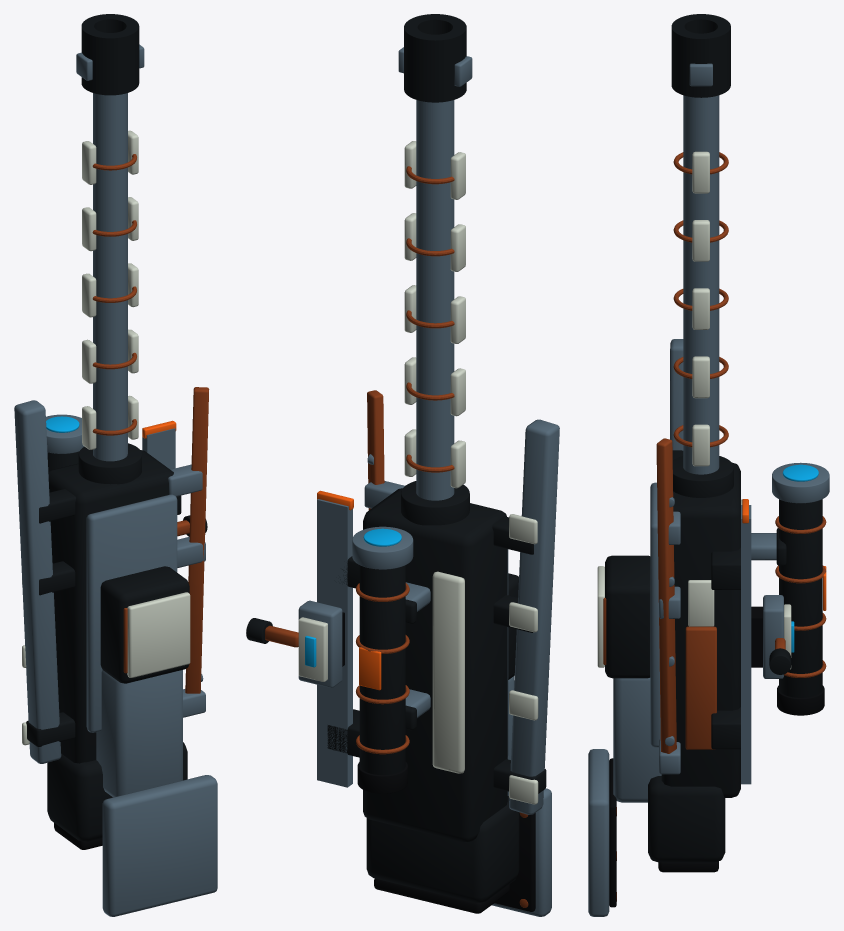
File: M01-011_long_precision_rifle.obj
The picture shows the model from 3 angles, left to right: view 1: azimuth 30°, elevation 25°; view 2: azimuth 150°, elevation 25°; view 3: azimuth 270°, elevation 25°; orthographic projection. The views are drawn at different scales.
Parts seen in each view (by area): view 1: Mount_Top_Socket, Bored_Long_Barrel, Precision_Receiver, Left_Long_Diagonal_Brace, Load_Bearing_Column, Receiver_Lower_Skid, Magazine_Ceramic_Base, Underbarrel_Magazine, Rear_Recoil_Block, Muzzle_Brake_Bored, Right_Light_Diagonal_Brace, Barrel_Breech_Collar (+15 smaller); view 2: Precision_Receiver, Bored_Long_Barrel, Left_Long_Diagonal_Brace, Rear_Recoil_Block, Precision_Optic_Tube, Bolt_Fixed_Rail, Receiver_Upper_Ceramic_Left, Muzzle_Brake_Bored, Mount_Top_Socket, Barrel_Breech_Collar, Mount_Elastomer_Gasket, Bolt_Machined_Block (+20 smaller); view 3: Precision_Receiver, Bored_Long_Barrel, Precision_Optic_Tube, Rear_Recoil_Block, Underbarrel_Magazine, Load_Bearing_Column, Right_Light_Diagonal_Brace, Muzzle_Brake_Bored, Right_Side_Copper_Band, Mount_Top_Socket, Bolt_Fixed_Rail, Receiver_Lower_Skid (+22 smaller).
Part boxes in pixels (bbox=[...]): Mount_Top_Socket: bbox=[102, 775, 217, 916]; Bored_Long_Barrel: bbox=[93, 93, 127, 461]; Precision_Receiver: bbox=[48, 450, 176, 763]; Left_Long_Diagonal_Brace: bbox=[14, 400, 61, 763]; Load_Bearing_Column: bbox=[96, 670, 182, 797]; Receiver_Lower_Skid: bbox=[86, 494, 177, 732]; Magazine_Ceramic_Base: bbox=[127, 592, 190, 677]; Underbarrel_Magazine: bbox=[100, 566, 189, 683]; Rear_Recoil_Block: bbox=[47, 742, 187, 841]; Muzzle_Brake_Bored: bbox=[81, 14, 139, 95]; Right_Light_Diagonal_Brace: bbox=[185, 387, 209, 693]; Barrel_Breech_Collar: bbox=[78, 443, 141, 484]; Precision_Receiver: bbox=[363, 488, 507, 842]; Bored_Long_Barrel: bbox=[416, 100, 454, 500]; Left_Long_Diagonal_Brace: bbox=[509, 419, 559, 814]; Rear_Recoil_Block: bbox=[366, 796, 519, 902]; Precision_Optic_Tube: bbox=[359, 565, 405, 774]; Bolt_Fixed_Rail: bbox=[317, 499, 352, 787]; Receiver_Upper_Ceramic_Left: bbox=[432, 571, 464, 773]; Muzzle_Brake_Bored: bbox=[404, 14, 466, 102]; Mount_Top_Socket: bbox=[492, 788, 551, 916]; Barrel_Breech_Collar: bbox=[401, 481, 469, 525]; Mount_Elastomer_Gasket: bbox=[494, 812, 535, 911]; Bolt_Machined_Block: bbox=[298, 600, 342, 687]; Precision_Receiver: bbox=[661, 462, 740, 797]; Bored_Long_Barrel: bbox=[683, 95, 719, 474]; Precision_Optic_Tube: bbox=[779, 499, 822, 697]; Rear_Recoil_Block: bbox=[648, 776, 725, 862]; Underbarrel_Magazine: bbox=[605, 555, 650, 678]; Load_Bearing_Column: bbox=[613, 678, 661, 802]; Right_Light_Diagonal_Brace: bbox=[656, 438, 676, 753]; Muzzle_Brake_Bored: bbox=[671, 14, 730, 97]; Right_Side_Copper_Band: bbox=[685, 626, 716, 749]; Mount_Top_Socket: bbox=[588, 749, 609, 916]; Bolt_Fixed_Rail: bbox=[741, 505, 751, 784]; Receiver_Lower_Skid: bbox=[650, 482, 660, 747].
Size of the model in its own units: 0.6584 by 2.28 by 0.577.
